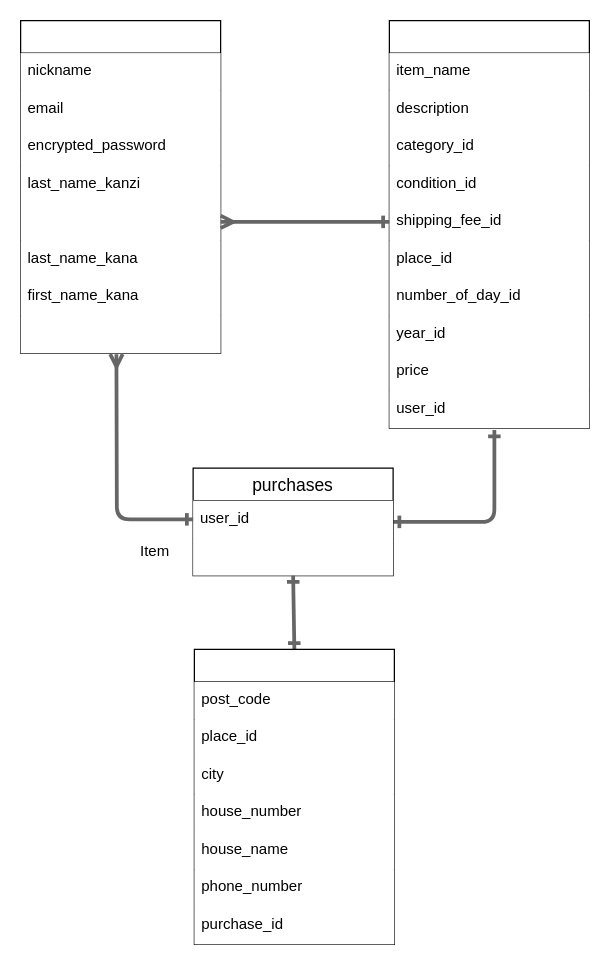
The diagram is 610 pixels wide and 965 high, and some of its shapes have lost their labels. The shapes that lost their labels are listed below. From the top down, each one's box as (x1, y1, x2, y2) in pixels, then its label:
(19, 19, 221, 353): users
(20, 202, 220, 240): first_name_kanzi
(388, 19, 589, 428): items
(20, 315, 220, 352): birthday
(192, 538, 392, 575): item_id
(193, 648, 394, 944): addresses
